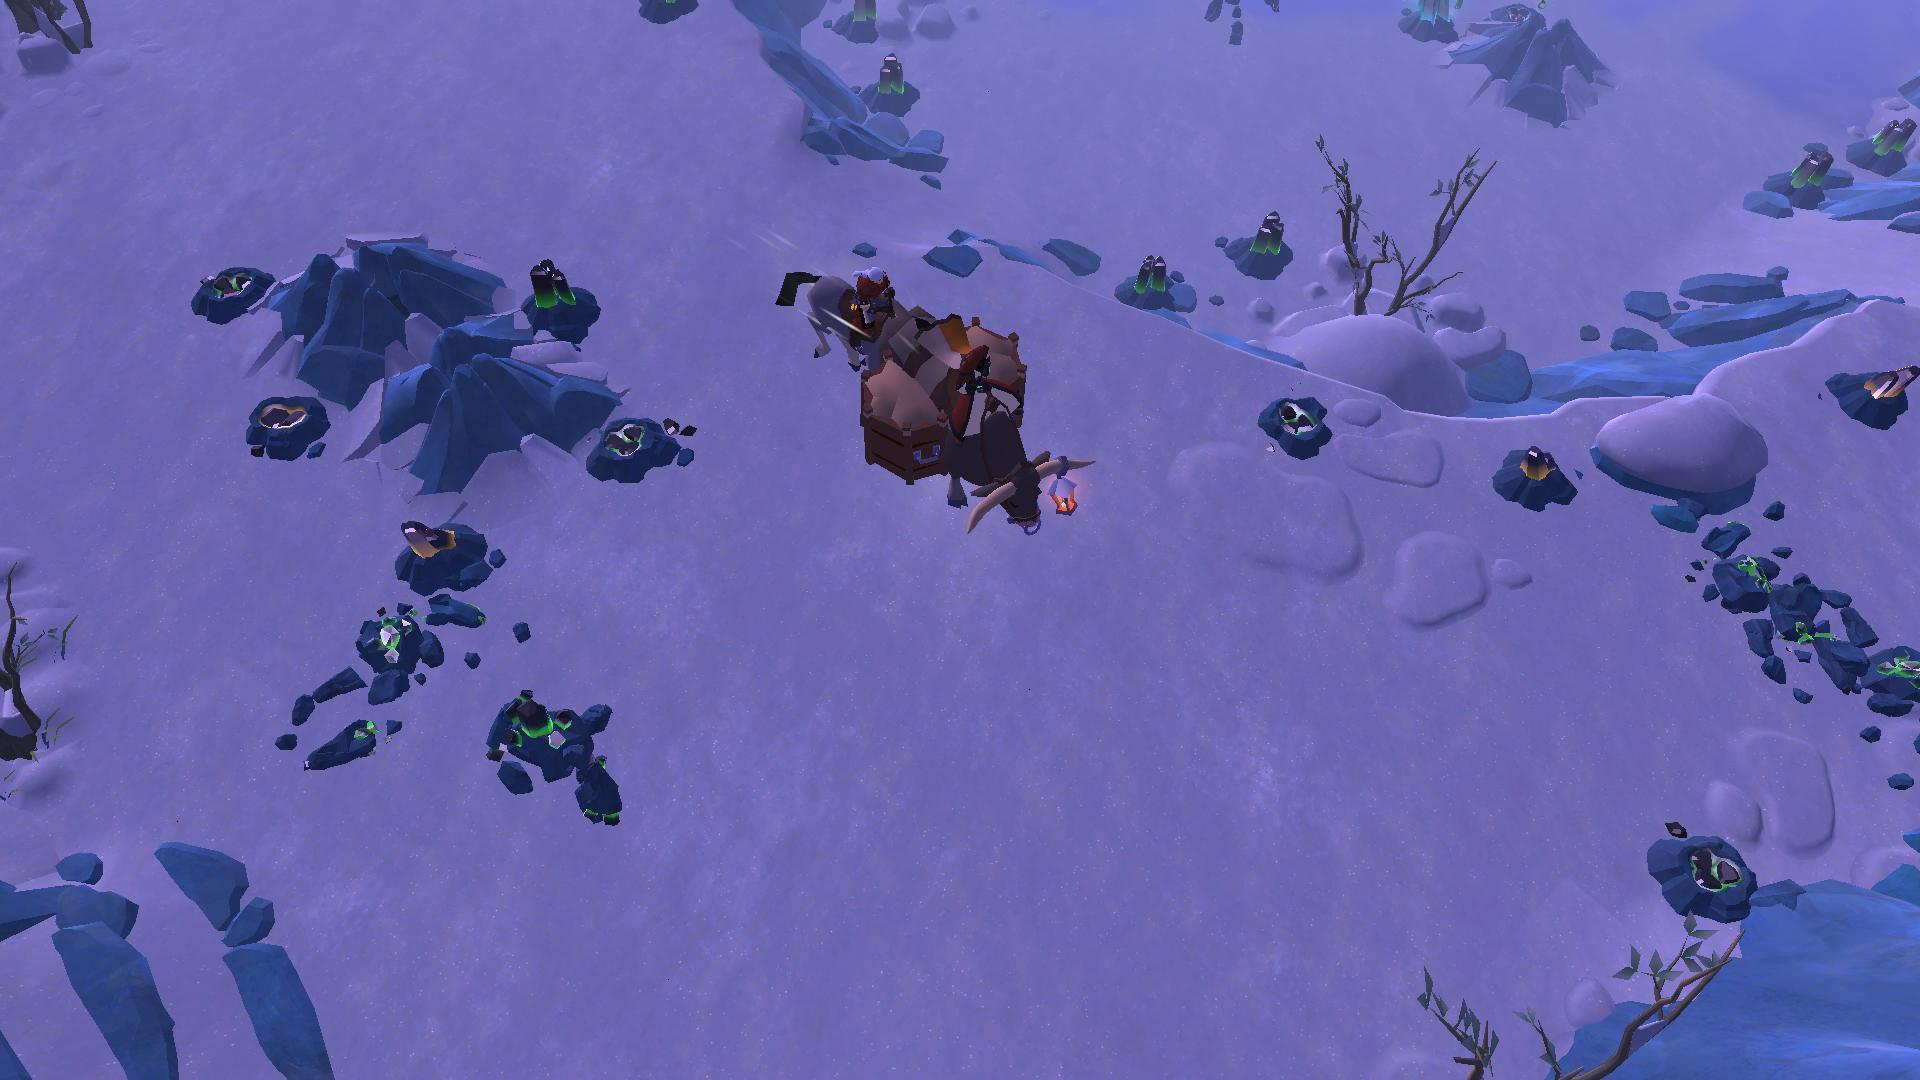ore_t3: (525, 251, 582, 318), (1874, 109, 1920, 164), (1784, 148, 1833, 198), (1251, 202, 1286, 273), (1131, 248, 1166, 299), (869, 55, 906, 102), (839, 0, 897, 28)
